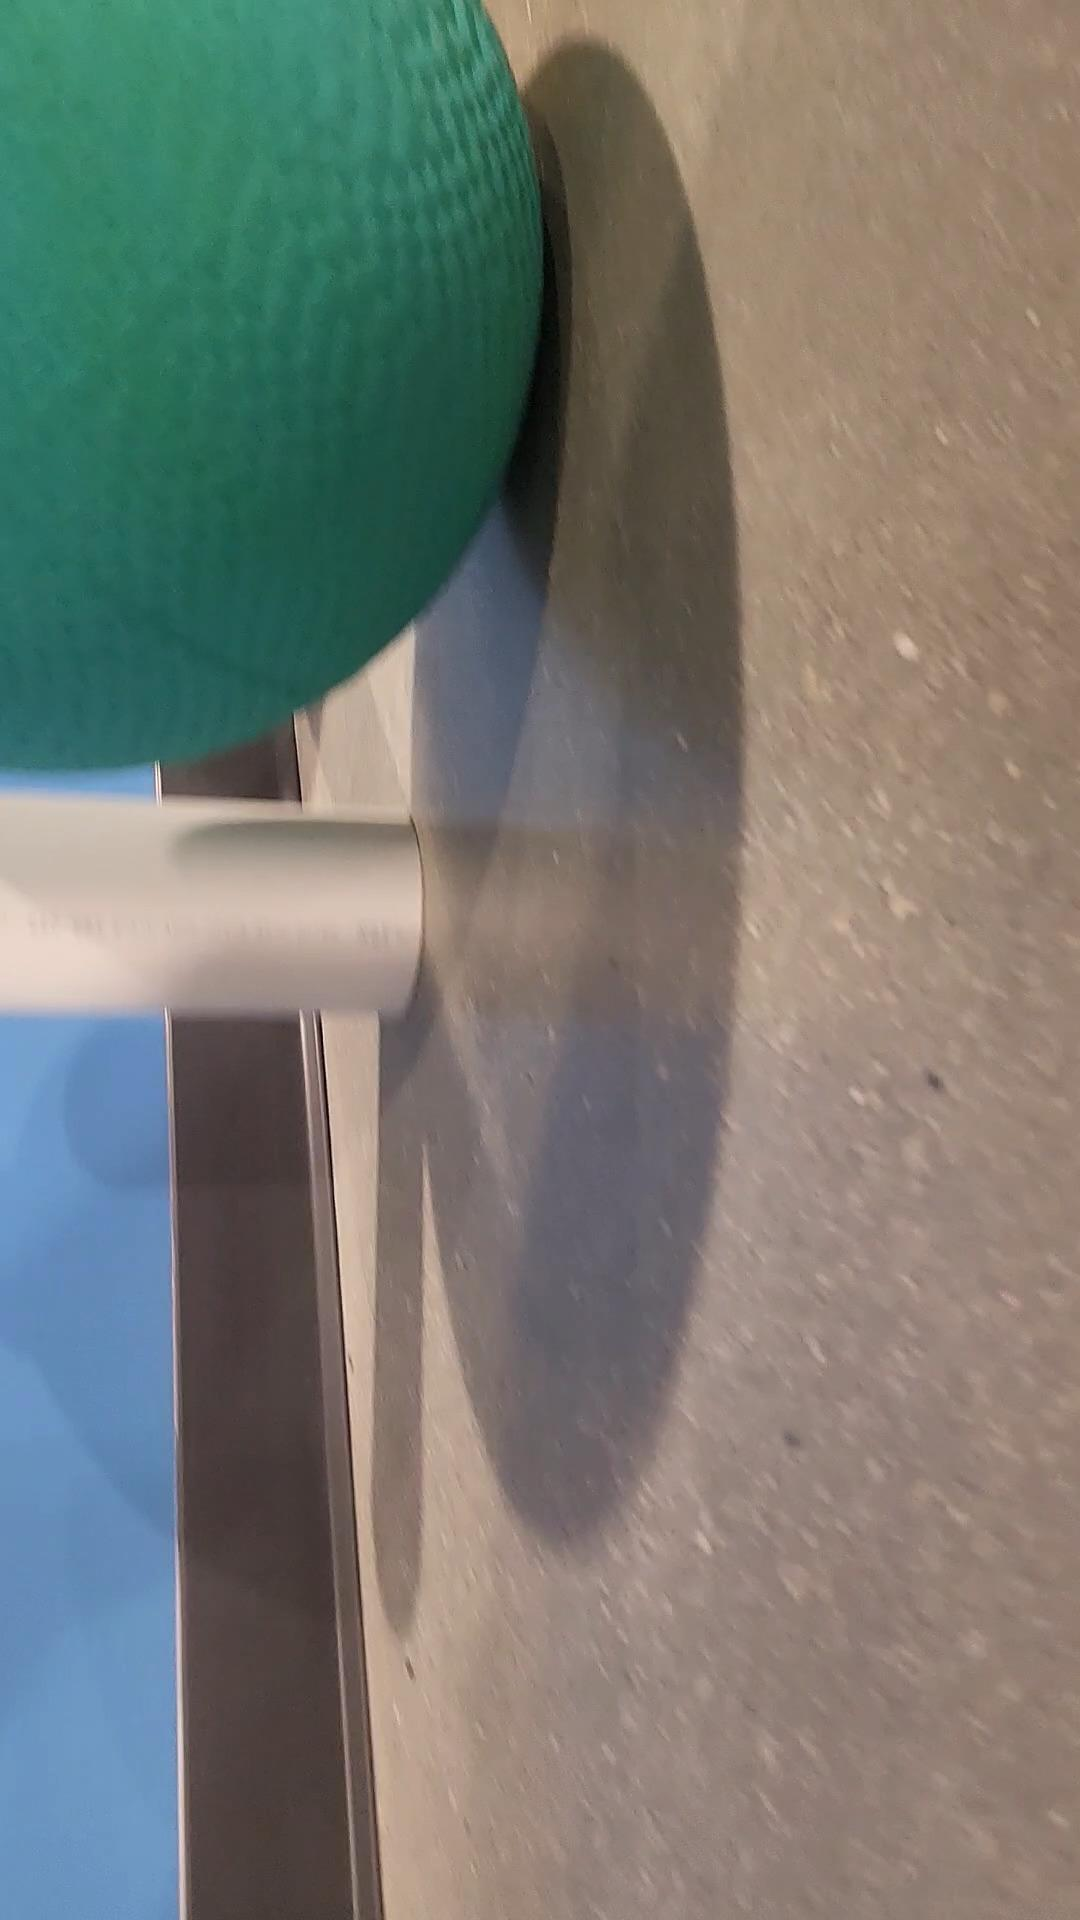algae: (0, 0, 554, 777)
coral: (0, 774, 440, 1047)
